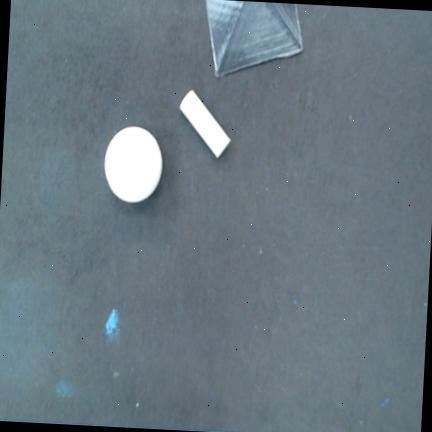Cilindro: (179, 88, 230, 160)
Esfera: (104, 126, 162, 202)
Piramide: (205, 0, 303, 75)
